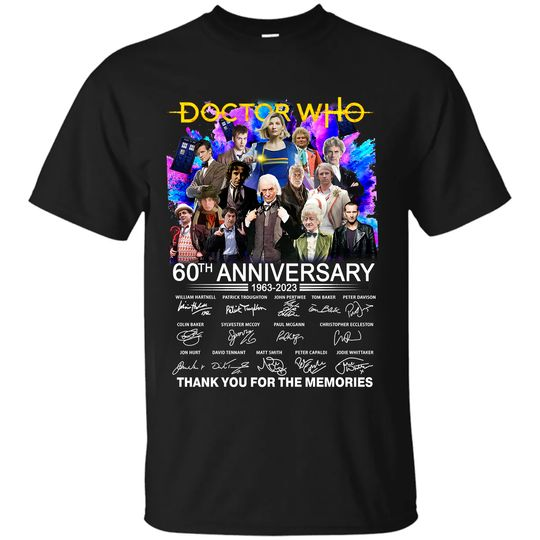design: (163, 94, 381, 389)
